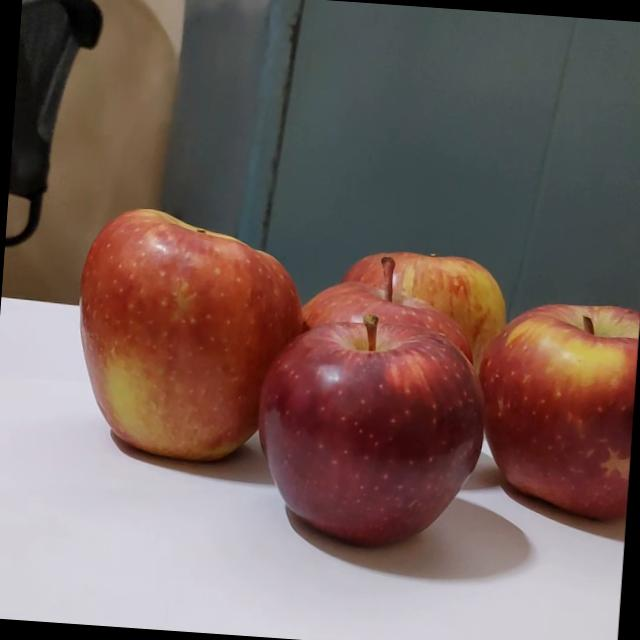apple: (58, 217, 282, 466), (236, 318, 462, 552), (448, 294, 640, 514), (274, 251, 456, 470), (293, 251, 457, 438)
